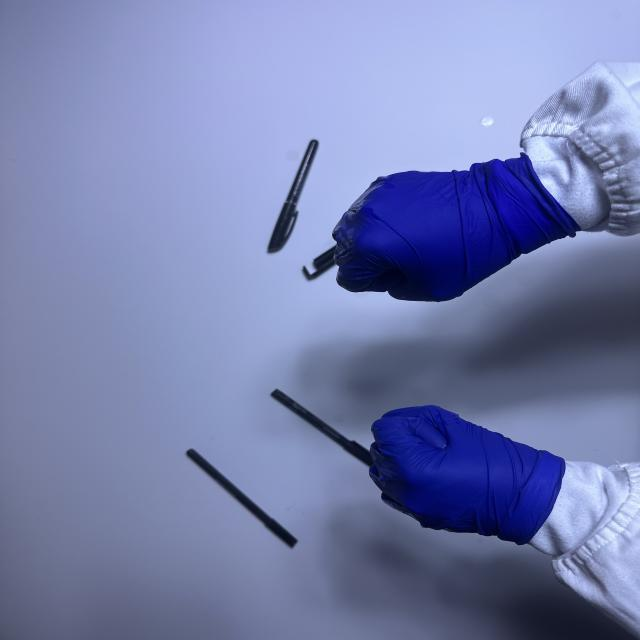gloves_contaminated: (333, 155, 578, 302), (370, 406, 565, 544)
